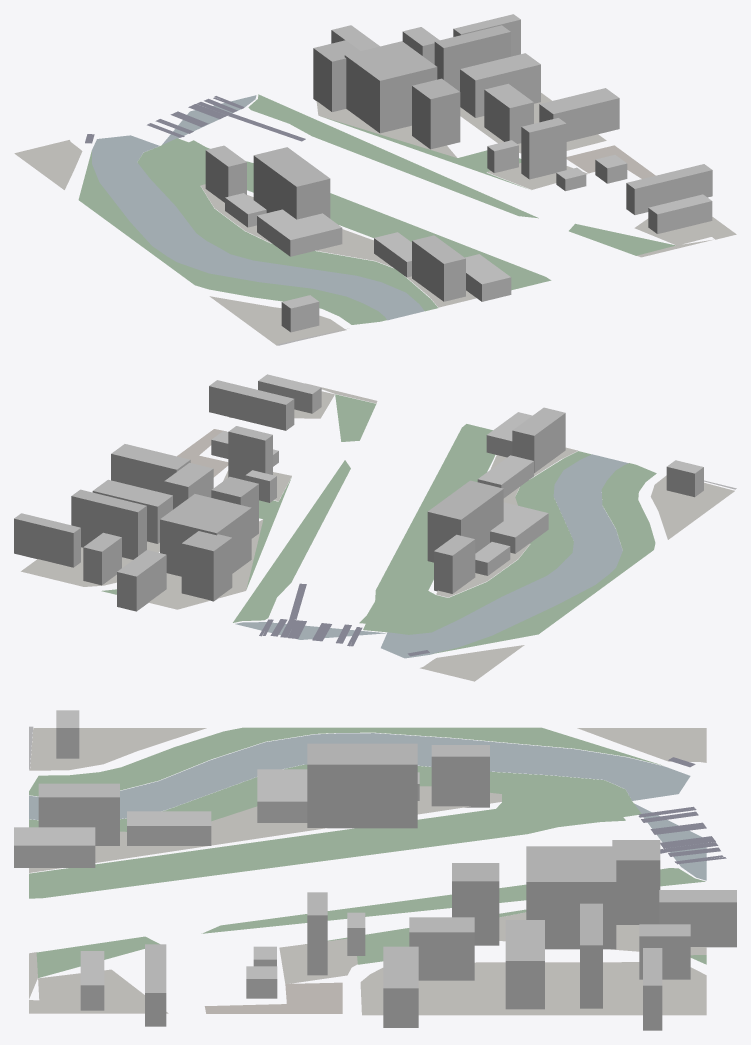
File: 104_102_mid.glb
3 views of the same model, one above another, from view 1: azimuth 30°, elevation 25°; view 2: azimuth 150°, elevation 25°; view 3: azimuth 270°, elevation 25° (orthographic). The views are drawn at different scales.
Bounding box in the file's own units: 526 × 55.2 × 534.
